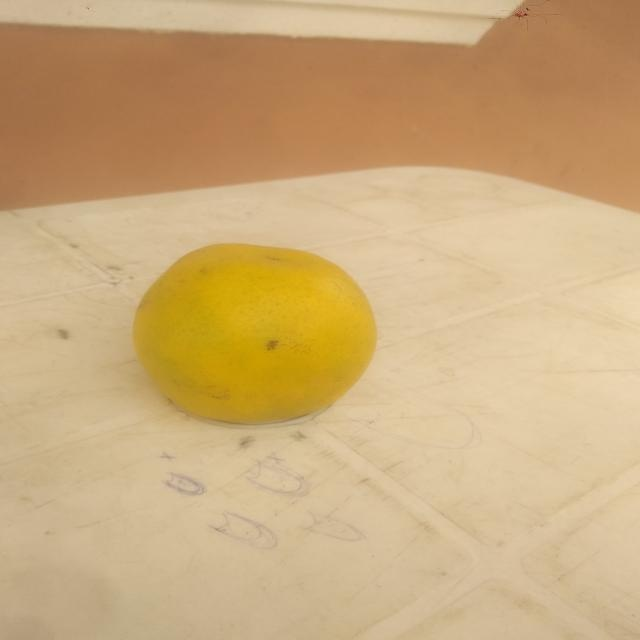agrume: (121, 238, 384, 431)
